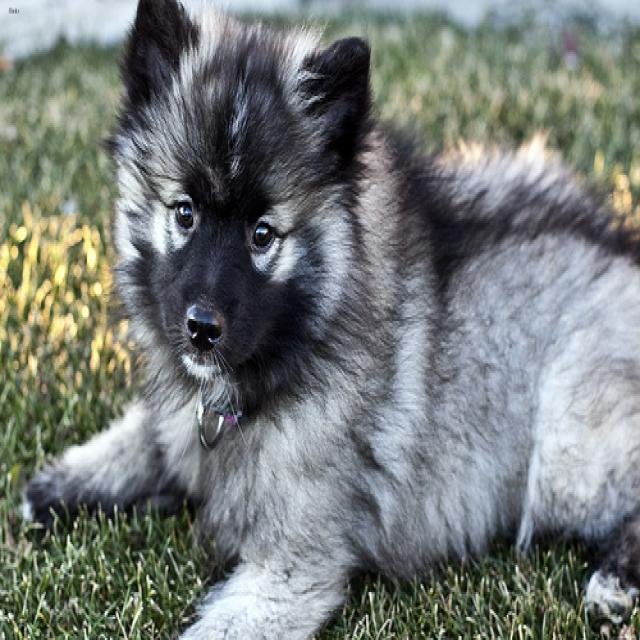dog-keeshond: (5, 2, 637, 636)
